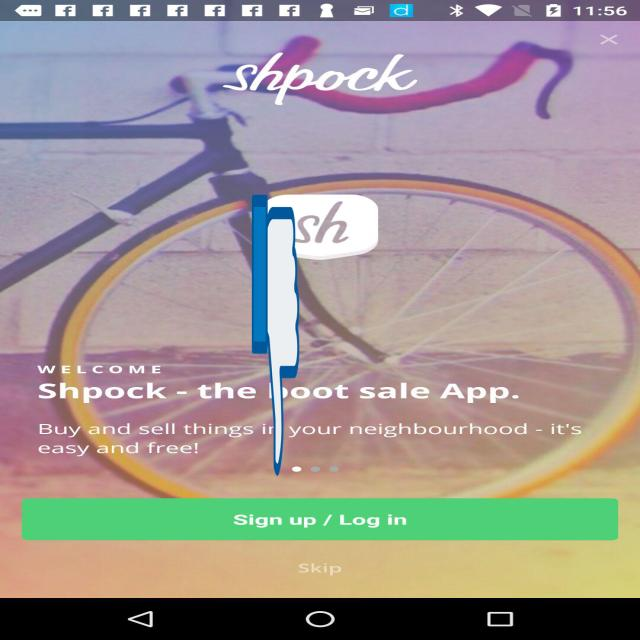obstruction: (252, 189, 299, 482)
